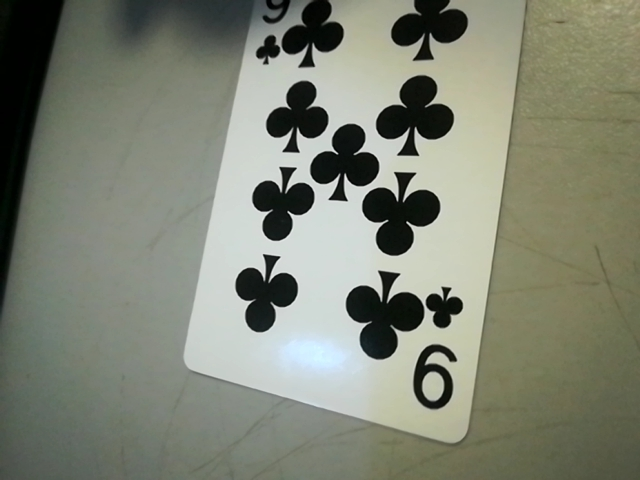mh 9: (409, 281, 474, 419)
